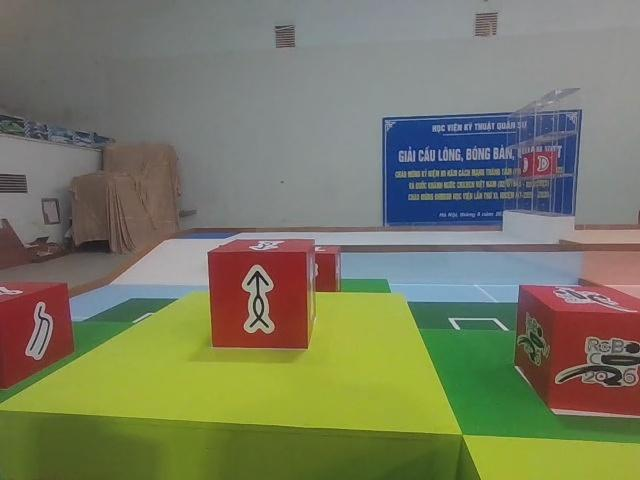R1: (512, 283, 640, 420)
R2 Real: (205, 236, 318, 350), (0, 277, 77, 391)
